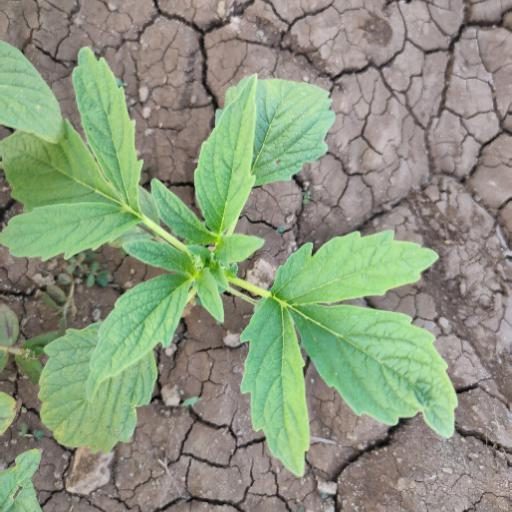crop: (10, 69, 468, 484)
